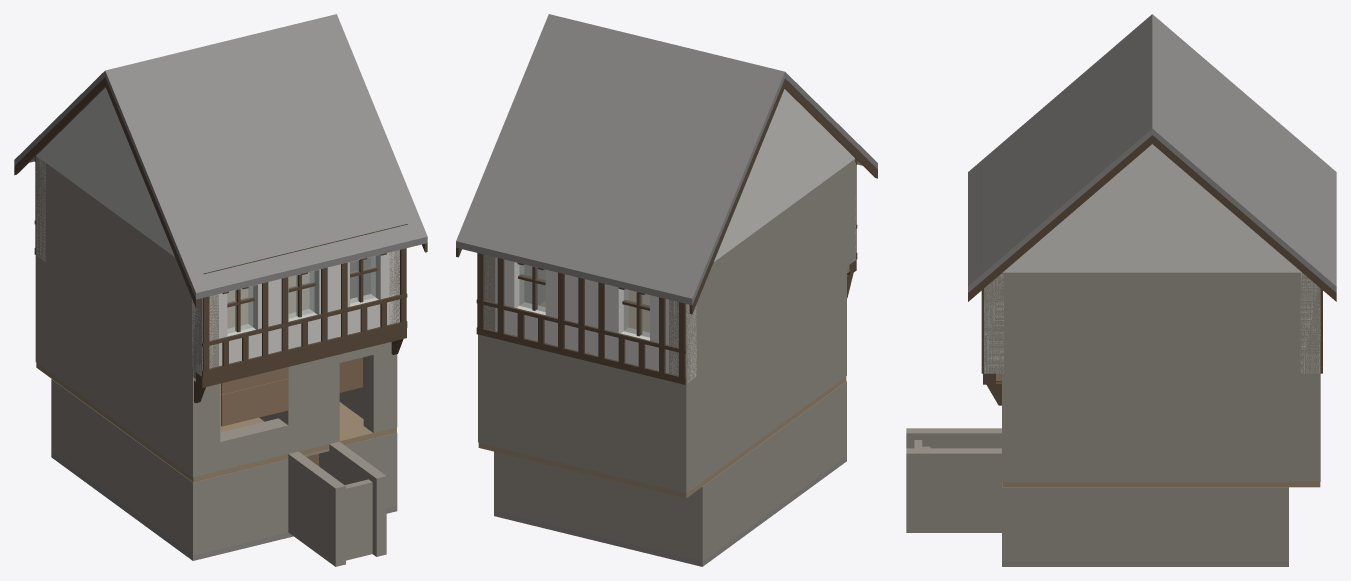
The model's file is shop-house-b.glb.
3 renders of one model, left to right at view 1: azimuth 30°, elevation 25°; view 2: azimuth 150°, elevation 25°; view 3: azimuth 270°, elevation 25°, orthographic. The views are drawn at different scales.
Parts seen in each view (by area): view 1: stone, roof, render, timber, floor, glass, shop-house-b-shutter-02 leaf, flags, shop-house-b-shutter-01 leaf, shop-house-b-door-01 leaf; view 2: stone, roof, render, timber, floor, flags, glass; view 3: stone, roof, render, timber, floor, flags.
Part boxes in pixels (bbox=[...]): stone: bbox=[35, 156, 399, 566]; roof: bbox=[14, 14, 427, 299]; render: bbox=[35, 87, 399, 376]; timber: bbox=[14, 77, 427, 403]; floor: bbox=[36, 272, 396, 482]; glass: bbox=[227, 256, 375, 333]; shop-house-b-shutter-02 leaf: bbox=[221, 378, 288, 426]; flags: bbox=[51, 452, 397, 560]; shop-house-b-shutter-01 leaf: bbox=[221, 367, 288, 394]; shop-house-b-door-01 leaf: bbox=[339, 357, 362, 392]; stone: bbox=[478, 159, 855, 561]; roof: bbox=[456, 14, 877, 305]; render: bbox=[484, 89, 855, 382]; timber: bbox=[456, 78, 877, 384]; floor: bbox=[478, 265, 849, 498]; flags: bbox=[494, 456, 846, 566]; glass: bbox=[519, 265, 649, 337]; stone: bbox=[906, 272, 1320, 561]; roof: bbox=[968, 14, 1336, 292]; render: bbox=[984, 144, 1320, 373]; timber: bbox=[968, 135, 1336, 405]; floor: bbox=[996, 373, 1320, 487]; flags: bbox=[1002, 561, 1288, 566].
Size of the model in its own units: 6.8 by 12.33 by 10.8.
